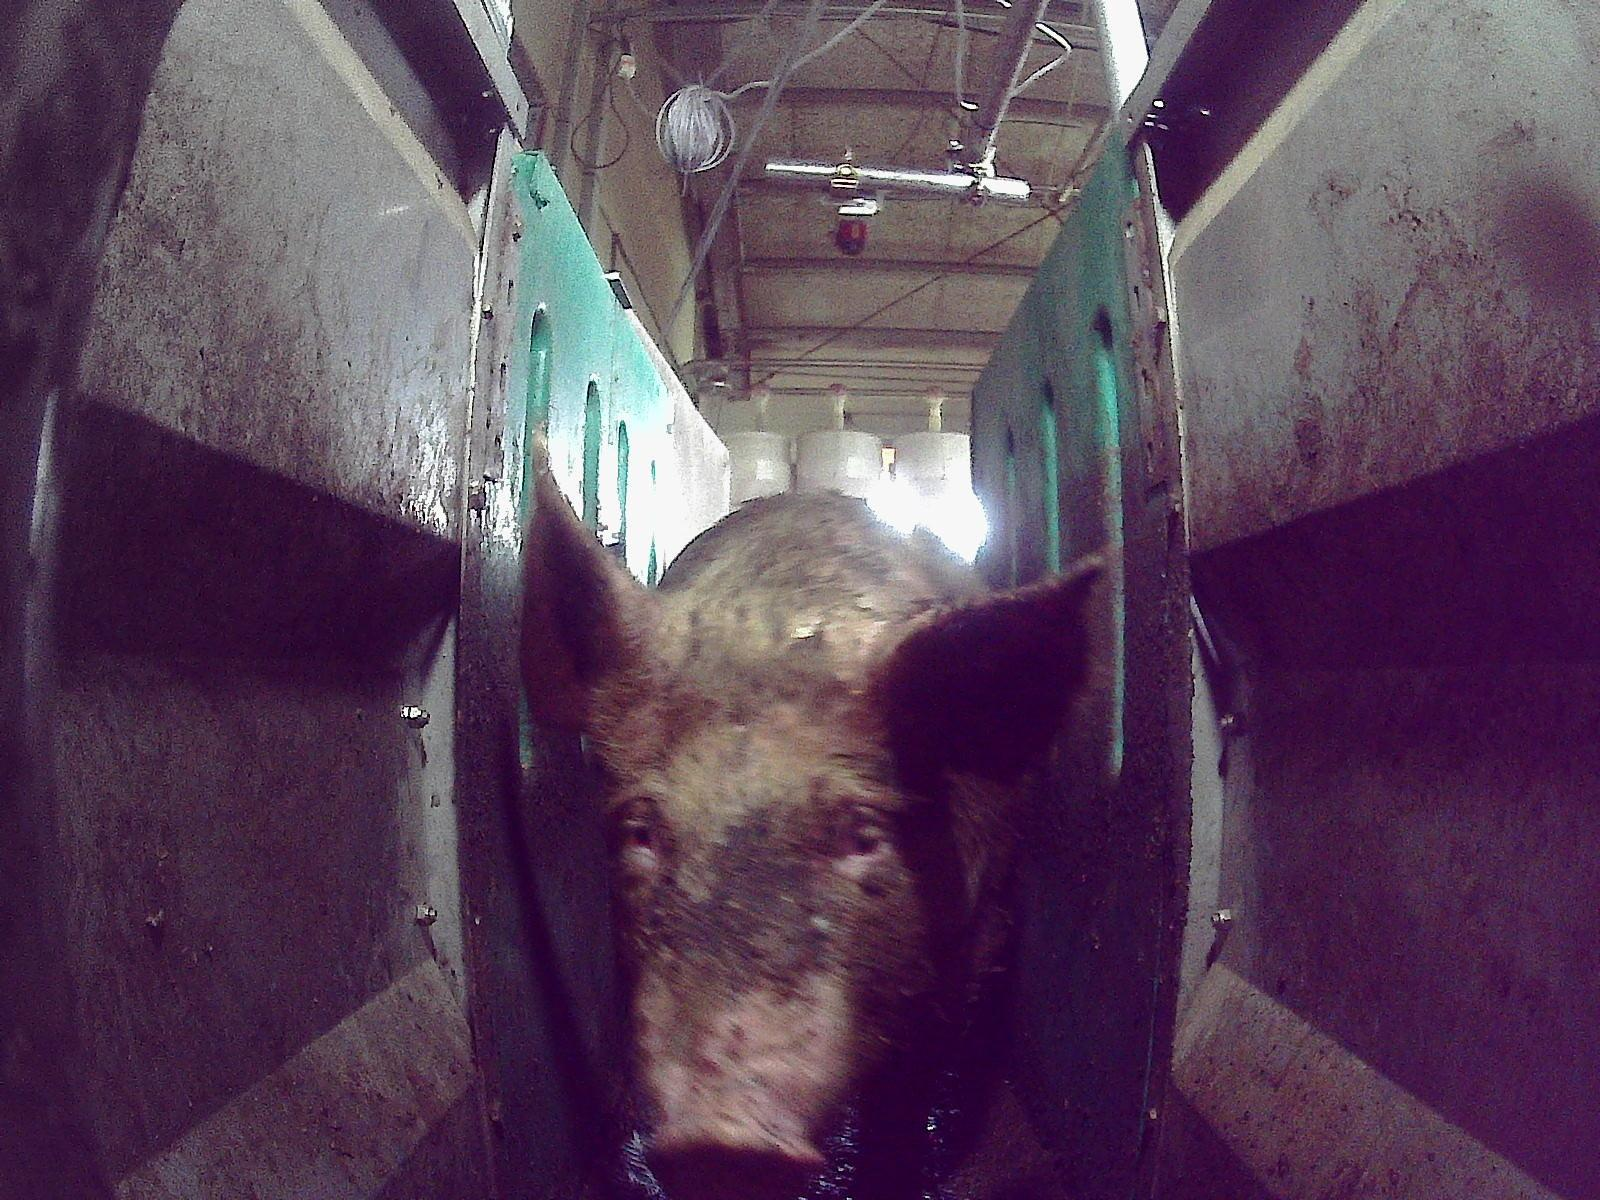Face: (604, 711, 946, 1199)
